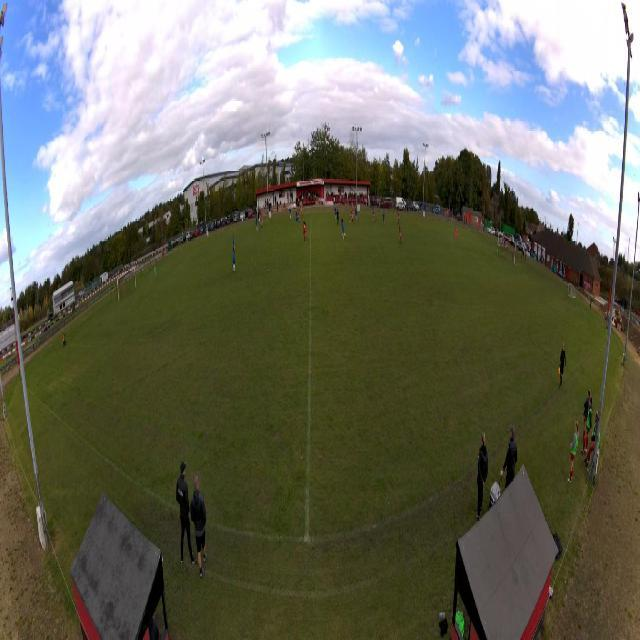ball: (350, 219, 351, 223)
player: (341, 218, 347, 243), (302, 220, 308, 244), (232, 246, 236, 274), (398, 227, 402, 246), (232, 231, 236, 249), (154, 263, 158, 281), (455, 225, 458, 244), (289, 204, 292, 223), (259, 216, 263, 230), (351, 206, 354, 223), (355, 205, 358, 222), (336, 208, 339, 225), (334, 204, 337, 221), (255, 216, 258, 233), (383, 211, 386, 227), (300, 203, 303, 219), (297, 209, 300, 225), (373, 208, 376, 223), (296, 213, 299, 225), (372, 204, 374, 219), (351, 201, 354, 210), (398, 210, 399, 226)
